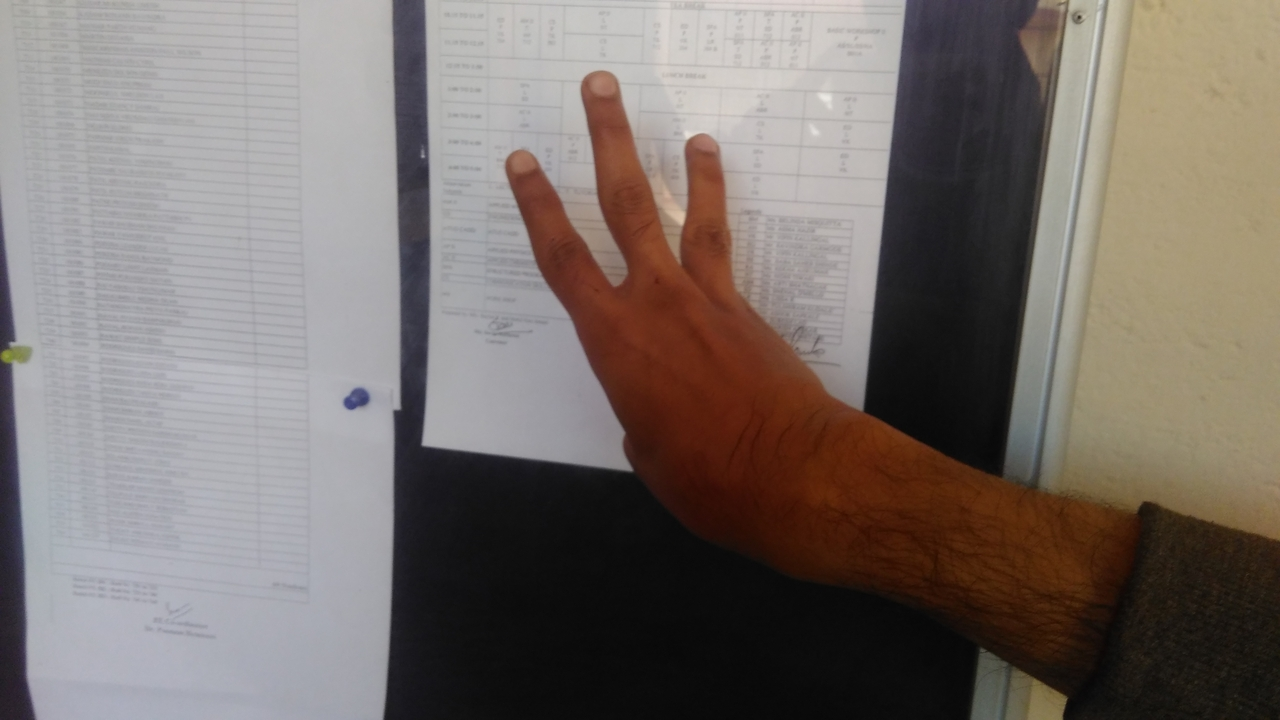fingertip: (496, 144, 548, 184), (572, 68, 626, 104), (682, 128, 728, 162)
